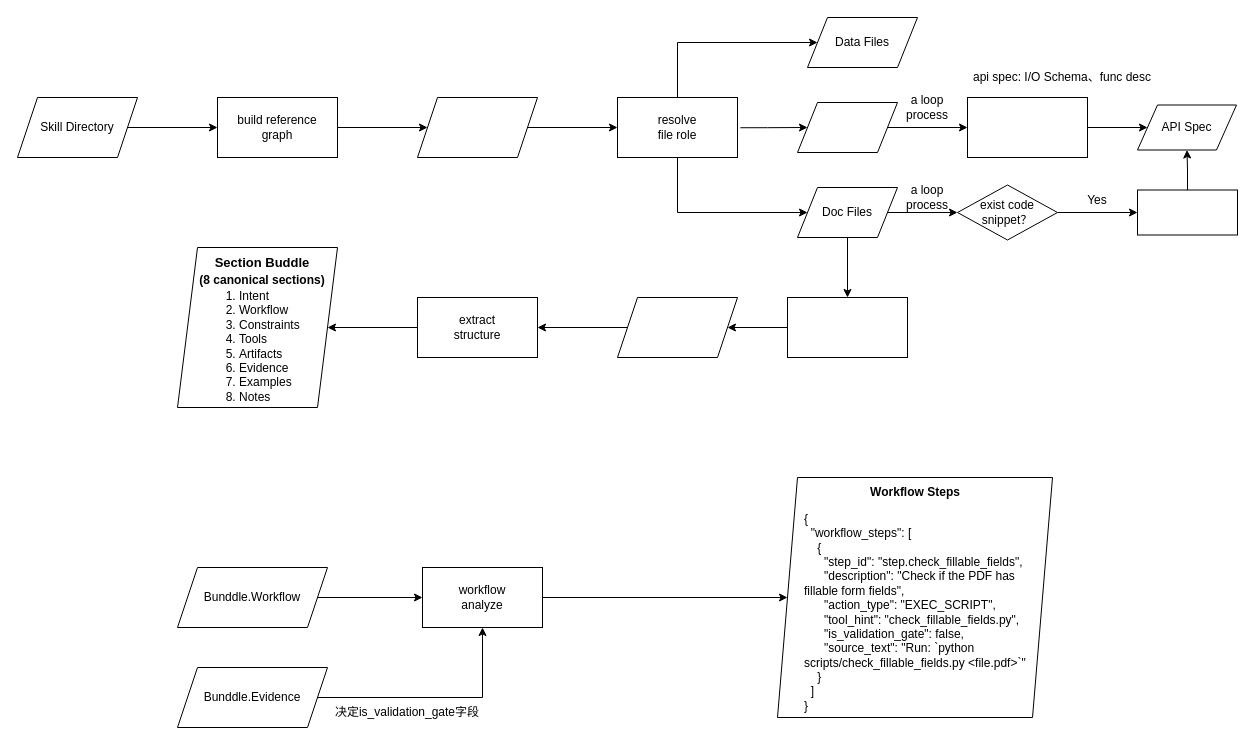
Some shapes in this 1255 by 745 pixel diagram are drawn without their labels. Each missing label, with the centre of its shape:
extract api spec: [1187,212]
File Reference Graph: [477,127]
generate api sepc: [1027,127]
merge all docs: [847,327]
merged doc text: [677,327]
Script Files: [847,127]
